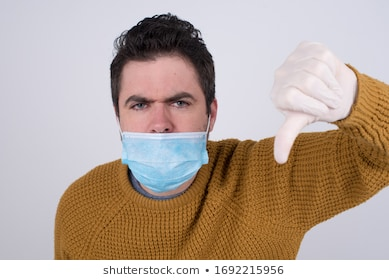mask_weared_incorrect: (120, 82, 206, 193)
